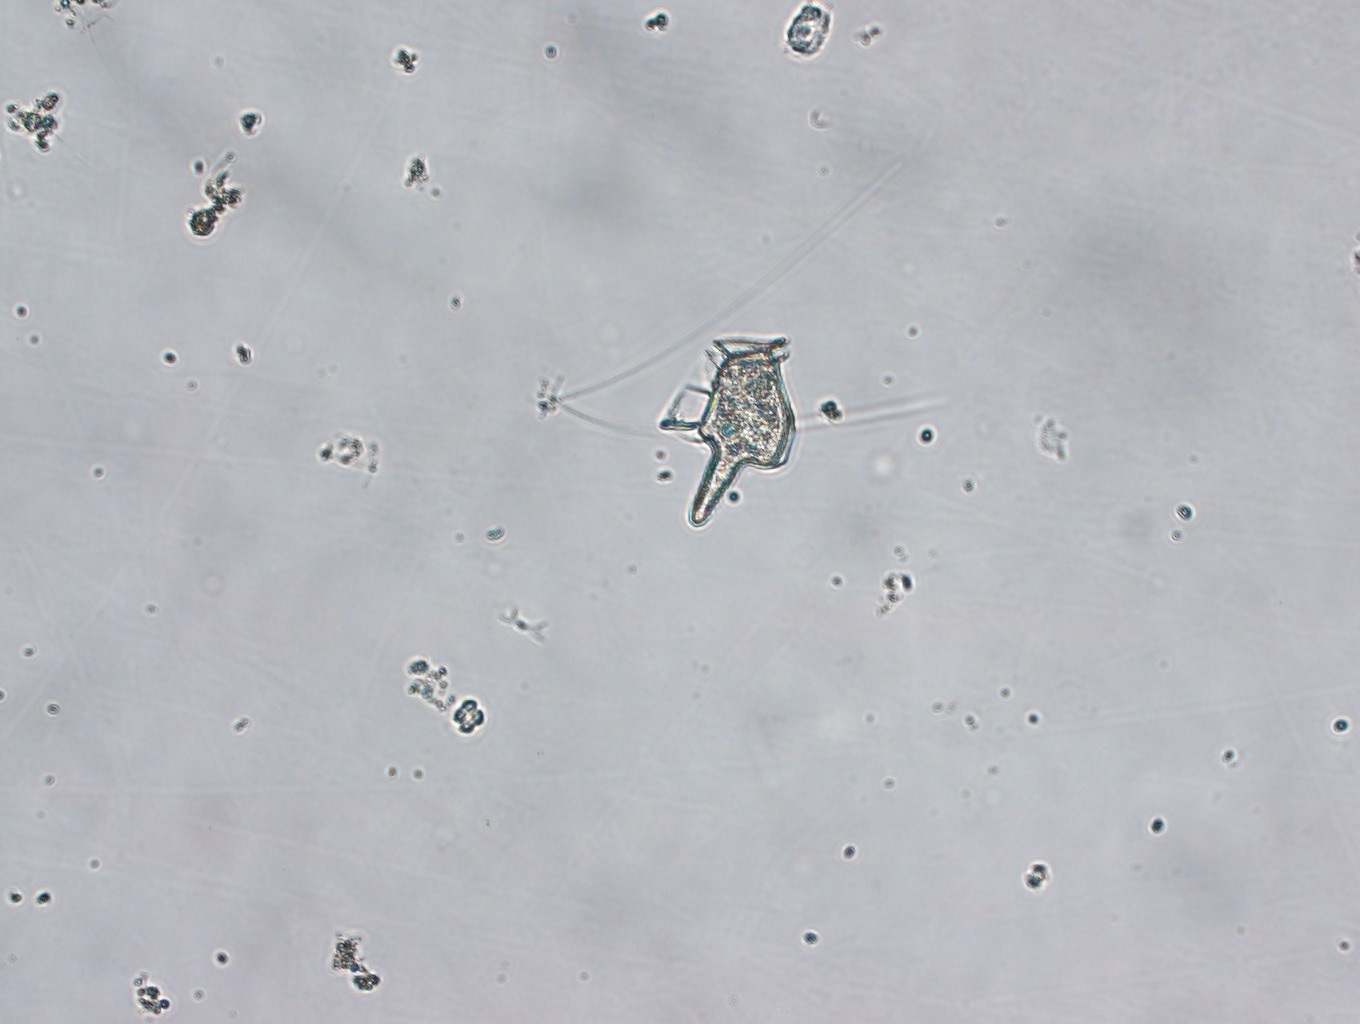dinophysis caudata: (656, 333, 799, 529)
